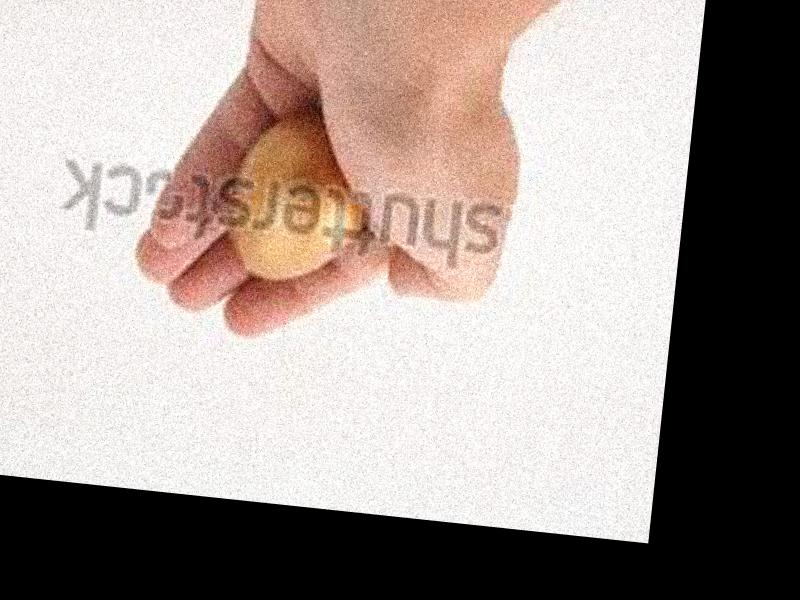Eggs: (226, 111, 367, 286)
